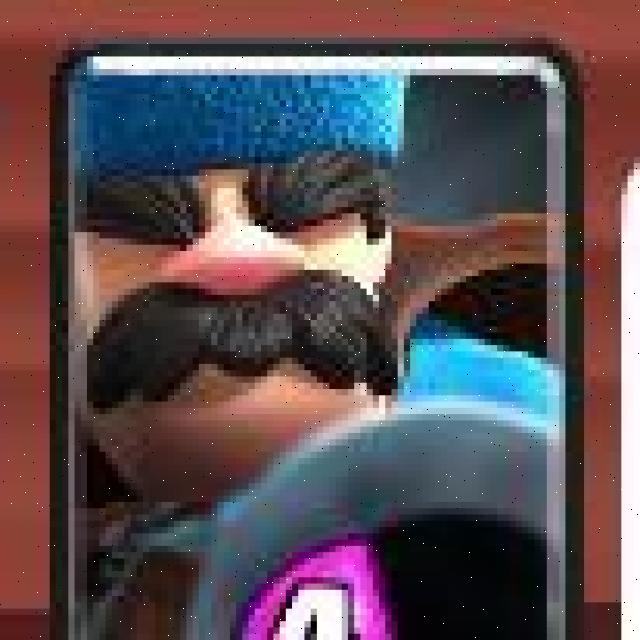Hunter: (45, 42, 577, 640)
